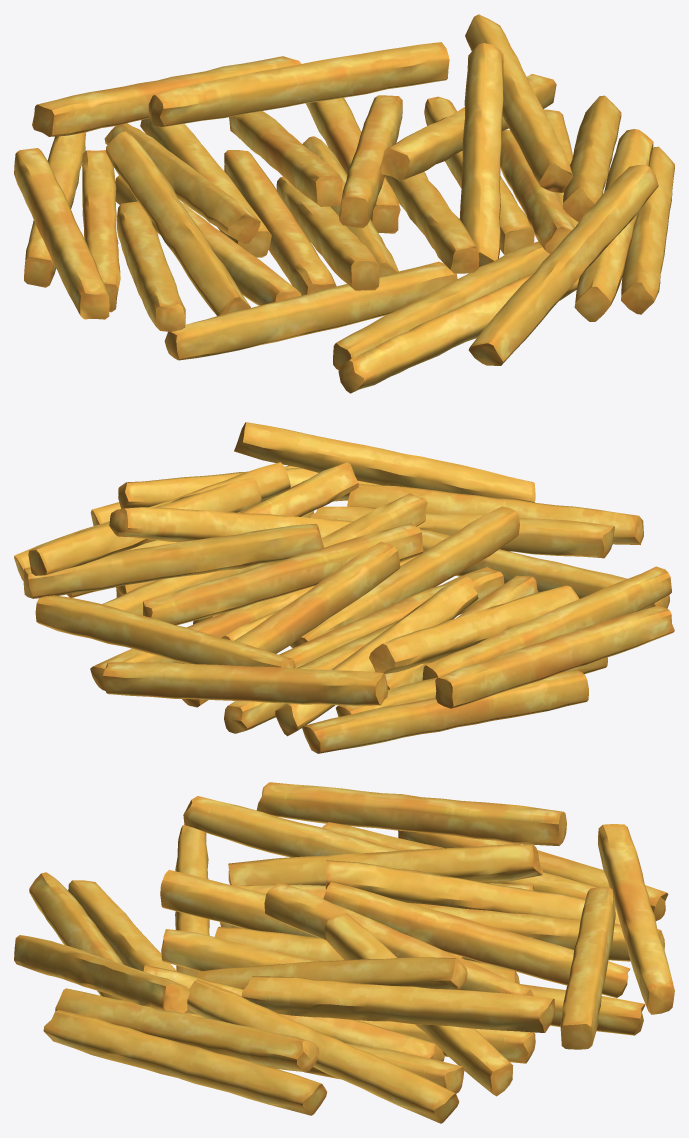
Rendered from patatine.glb.
The picture shows the model from 3 angles, top to bottom: view 1: azimuth 30°, elevation 25°; view 2: azimuth 150°, elevation 25°; view 3: azimuth 270°, elevation 25°; orthographic projection. The views are drawn at different scales.
Parts seen in each view (by area): view 1: Object_2; view 2: Object_2; view 3: Object_2.
Boxes of the visible parts, box(x1,y1,x2,y2) form: Object_2: box(14, 14, 674, 393); Object_2: box(14, 422, 674, 753); Object_2: box(14, 782, 674, 1123).
Bounding box in the file's own units: 20.41 × 3.52 × 19.16.
Materials: 1 (1 with a texture image).
